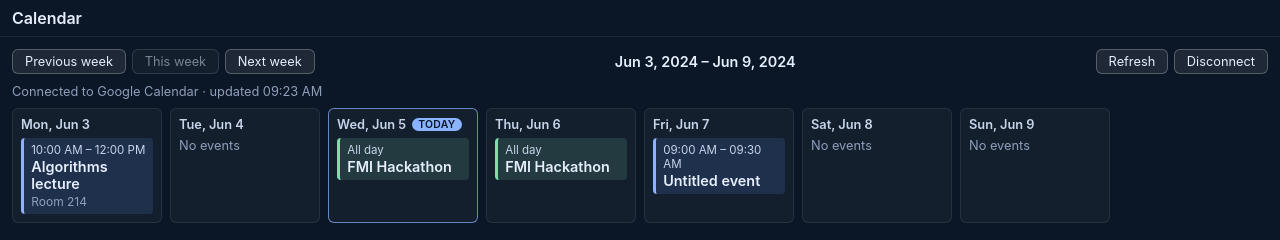
Test case: CalendarApp: API mode › disconnects, forgets the cached events and offers to connect again
Expected: the text "Algorithms lecture" is shown, [31,158,108,192]
Click the button "Disconnect": (1221, 62) [1174,49,1268,74]
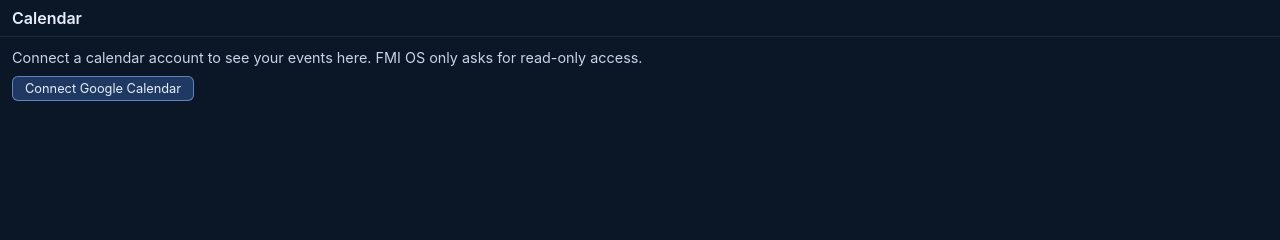
Result: the button "Connect Google Calendar" is shown at [12,76,194,101]
Result: the text "Algorithms lecture" is gone
